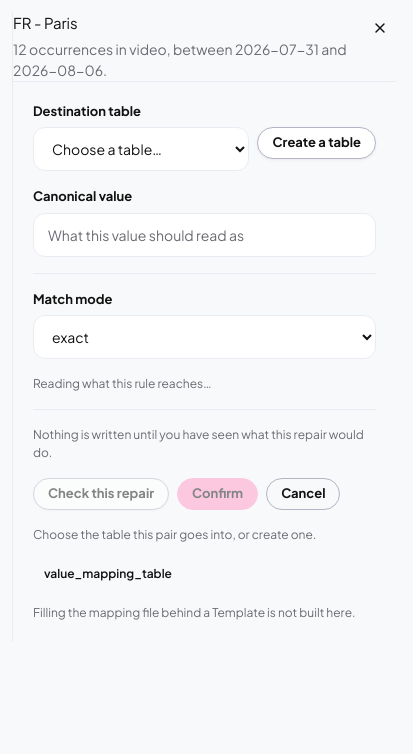
Test: S3 — the repair drawer › states what depends on the table and the version the write would mint
Expected: the element with test id "repair-reach" is shown, [33,376,212,391]
Select "Country vocabulary" in the dropdown with test id "repair-destination". click: (141,149)
box: [33,127,250,171]
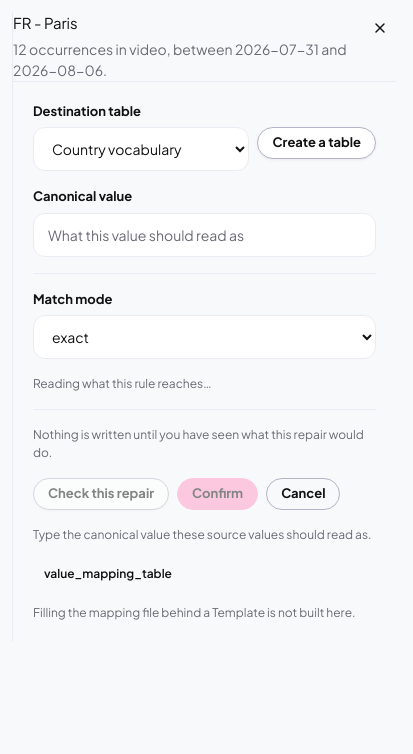
Type "France" into the field with test id "repair-canonical". click: (204,234)
box: [33,212,376,256]
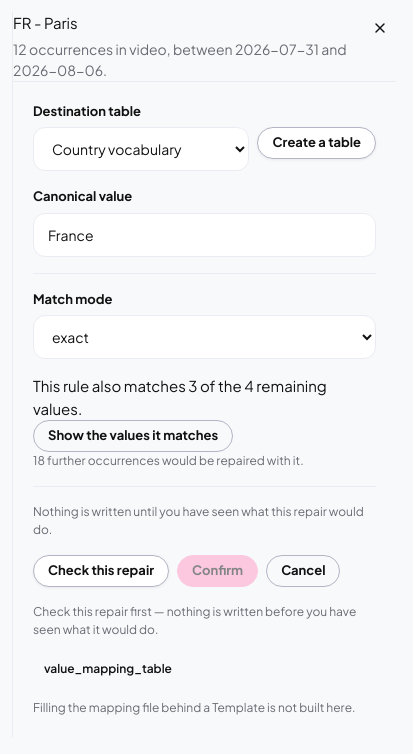
Click the button with test id "repair-check". click: (101,571)
box: [33,555,169,587]
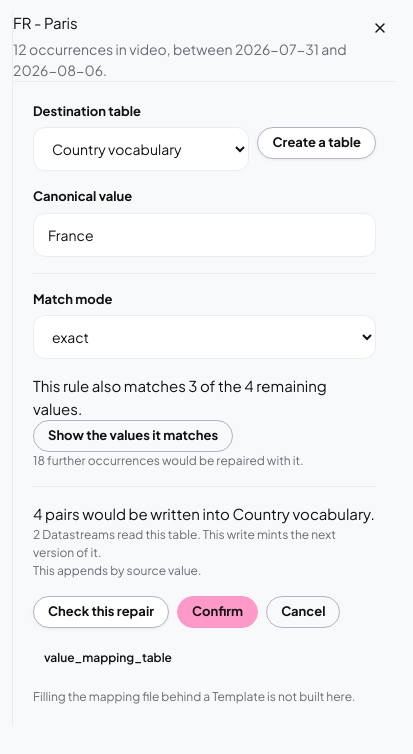
Expected: the element with test id "repair-impact" shows "2 Datastreams read this table", [33,503,376,580]
Expected: the element with test id "repair-impact" shows "mints the next version", [33,526,336,560]
Expected: the button with test id "repair-confirm" is enabled, [177,596,258,628]
